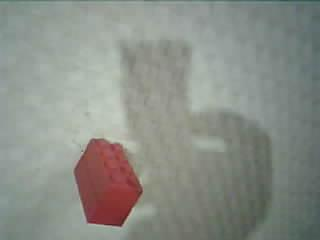lego: (72, 137, 144, 227)
